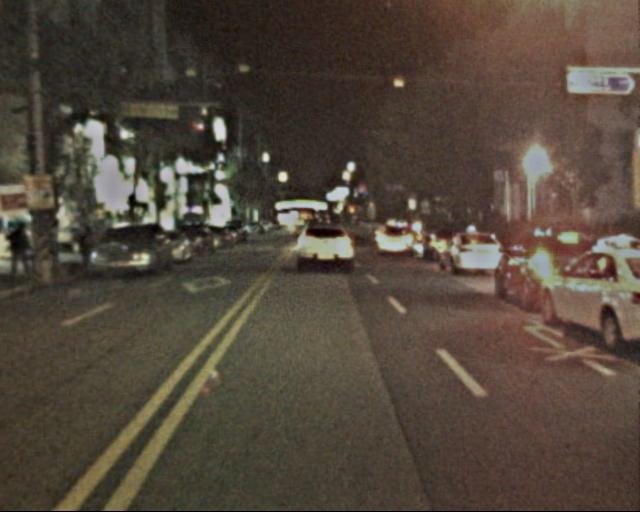person: (9, 216, 46, 283), (78, 222, 102, 275)
